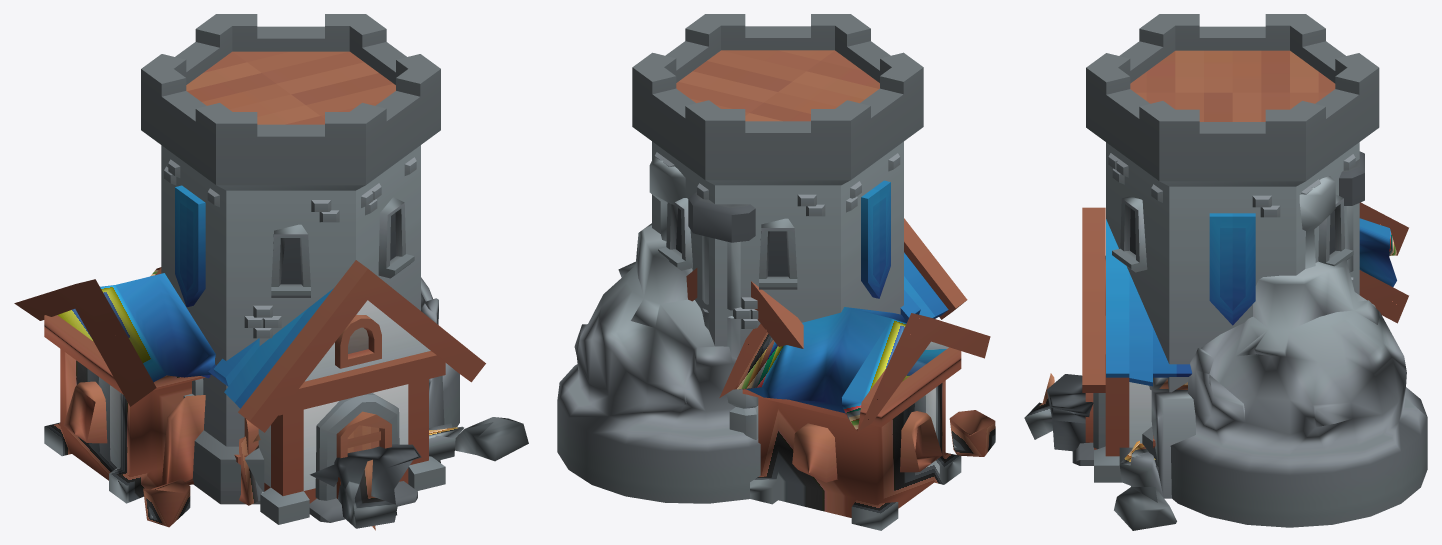
The model's file is kit_c3.glb.
The picture shows the model from 3 angles, left to right: view 1: azimuth 30°, elevation 25°; view 2: azimuth 150°, elevation 25°; view 3: azimuth 270°, elevation 25°; orthographic projection. The views are drawn at different scales.
Visible parts, largest first — view 1: building_tower_base_blue, building_blacksmith_blue, building_home_A_blue; view 2: building_blacksmith_blue, building_tower_base_blue, building_home_A_blue; view 3: building_tower_base_blue, building_blacksmith_blue, building_home_A_blue.
Boxes of the visible parts, x1,y1,x2,y2 form: building_tower_base_blue: [141, 14, 440, 522]; building_blacksmith_blue: [14, 267, 528, 530]; building_home_A_blue: [155, 260, 485, 524]; building_blacksmith_blue: [557, 153, 995, 530]; building_tower_base_blue: [632, 14, 923, 349]; building_home_A_blue: [686, 192, 967, 439]; building_tower_base_blue: [1072, 14, 1379, 475]; building_blacksmith_blue: [1024, 176, 1427, 530]; building_home_A_blue: [1082, 151, 1364, 482].
Bounding box in the file's own units: 11 × 10.8 × 10.52.
Materials: 5 (3 with a texture image).
